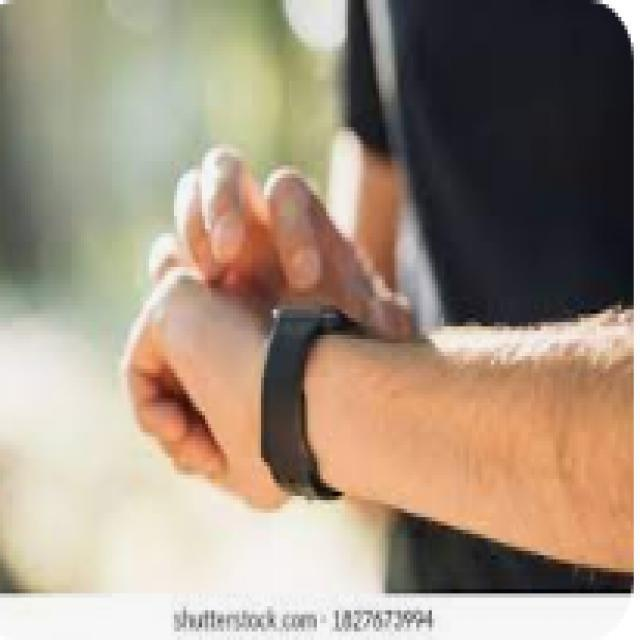Watch: (260, 294, 345, 501)
